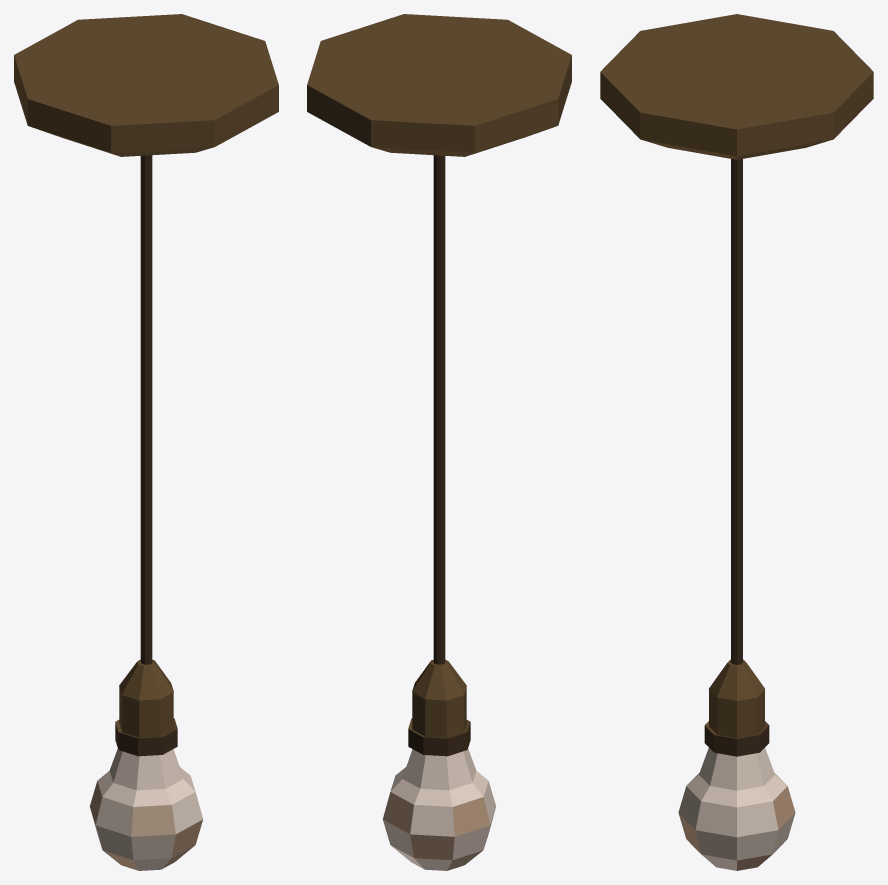
The model's file is lampa.glb.
3 views of the same model, side by side, from view 1: azimuth 30°, elevation 25°; view 2: azimuth 150°, elevation 25°; view 3: azimuth 270°, elevation 25° (orthographic).
Visible parts, largest first — view 1: Cylinder.002, Sphere.001, Cylinder, Cylinder.001, Cone.002, Cone; view 2: Cylinder.002, Sphere.001, Cylinder, Cylinder.001, Cone.002, Cone; view 3: Cylinder.002, Sphere.001, Cylinder, Cylinder.001, Cone.002, Cone.
Part boxes in pixels (<box>): Cylinder.002: <box>14,14,278,156</box>; Sphere.001: <box>89,767,203,870</box>; Cylinder: <box>140,155,152,664</box>; Cylinder.001: <box>115,688,177,756</box>; Cone.002: <box>109,748,183,790</box>; Cone: <box>119,659,173,700</box>; Cylinder.002: <box>307,14,571,156</box>; Sphere.001: <box>382,767,496,870</box>; Cylinder: <box>433,155,445,664</box>; Cylinder.001: <box>408,688,470,756</box>; Cone.002: <box>402,748,476,790</box>; Cone: <box>412,659,466,700</box>; Cylinder.002: <box>600,14,873,159</box>; Sphere.001: <box>678,773,795,870</box>; Cylinder: <box>731,159,742,664</box>; Cylinder.001: <box>704,690,769,756</box>; Cone.002: <box>699,748,774,790</box>; Cone: <box>709,659,764,700</box>.
Size of the model in its own units: 0.14 by 0.4485 by 0.14.
